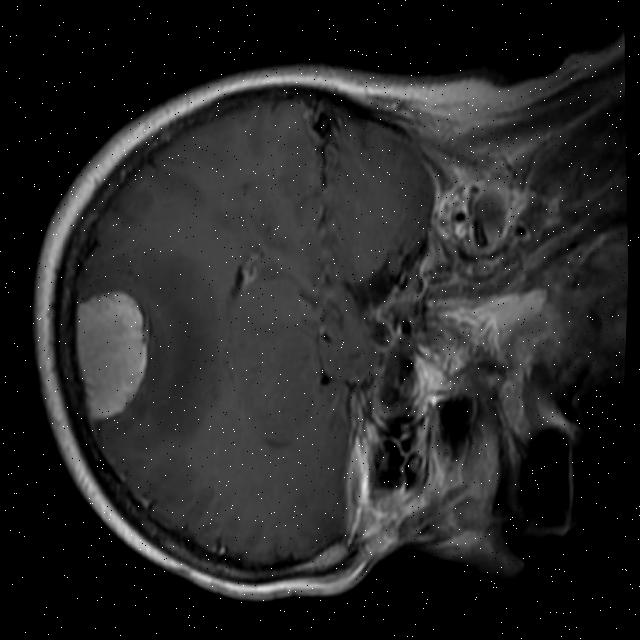Meningioma: (67, 287, 154, 424)
